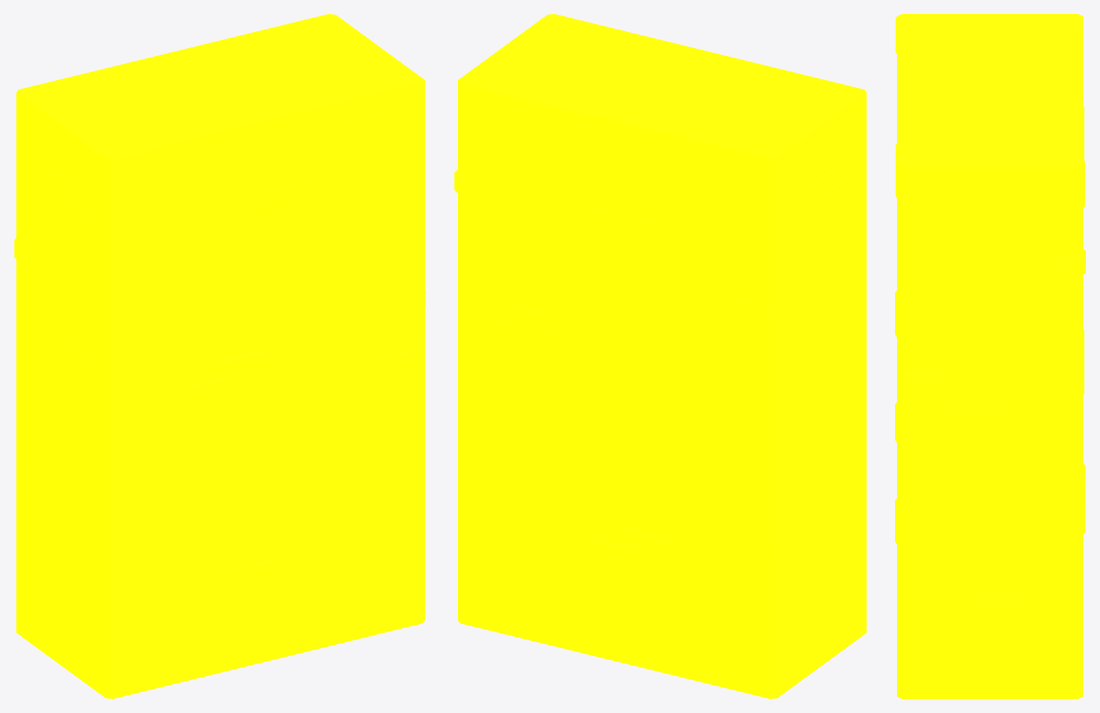
File: chimney-christmas-2m.glb
3 views of the same model, side by side, from view 1: azimuth 30°, elevation 25°; view 2: azimuth 150°, elevation 25°; view 3: azimuth 270°, elevation 25° (orthographic).
Visible parts, largest first — view 1: chimney_christmas_2m; view 2: chimney_christmas_2m; view 3: chimney_christmas_2m.
Boxes of the visible parts, <box> form: chimney_christmas_2m: <box>14,14,425,698</box>; chimney_christmas_2m: <box>454,14,866,698</box>; chimney_christmas_2m: <box>895,14,1085,698</box>.
Bounding box in the file's own units: 1.25 × 2 × 0.6509.
1 material, 1 textured.
